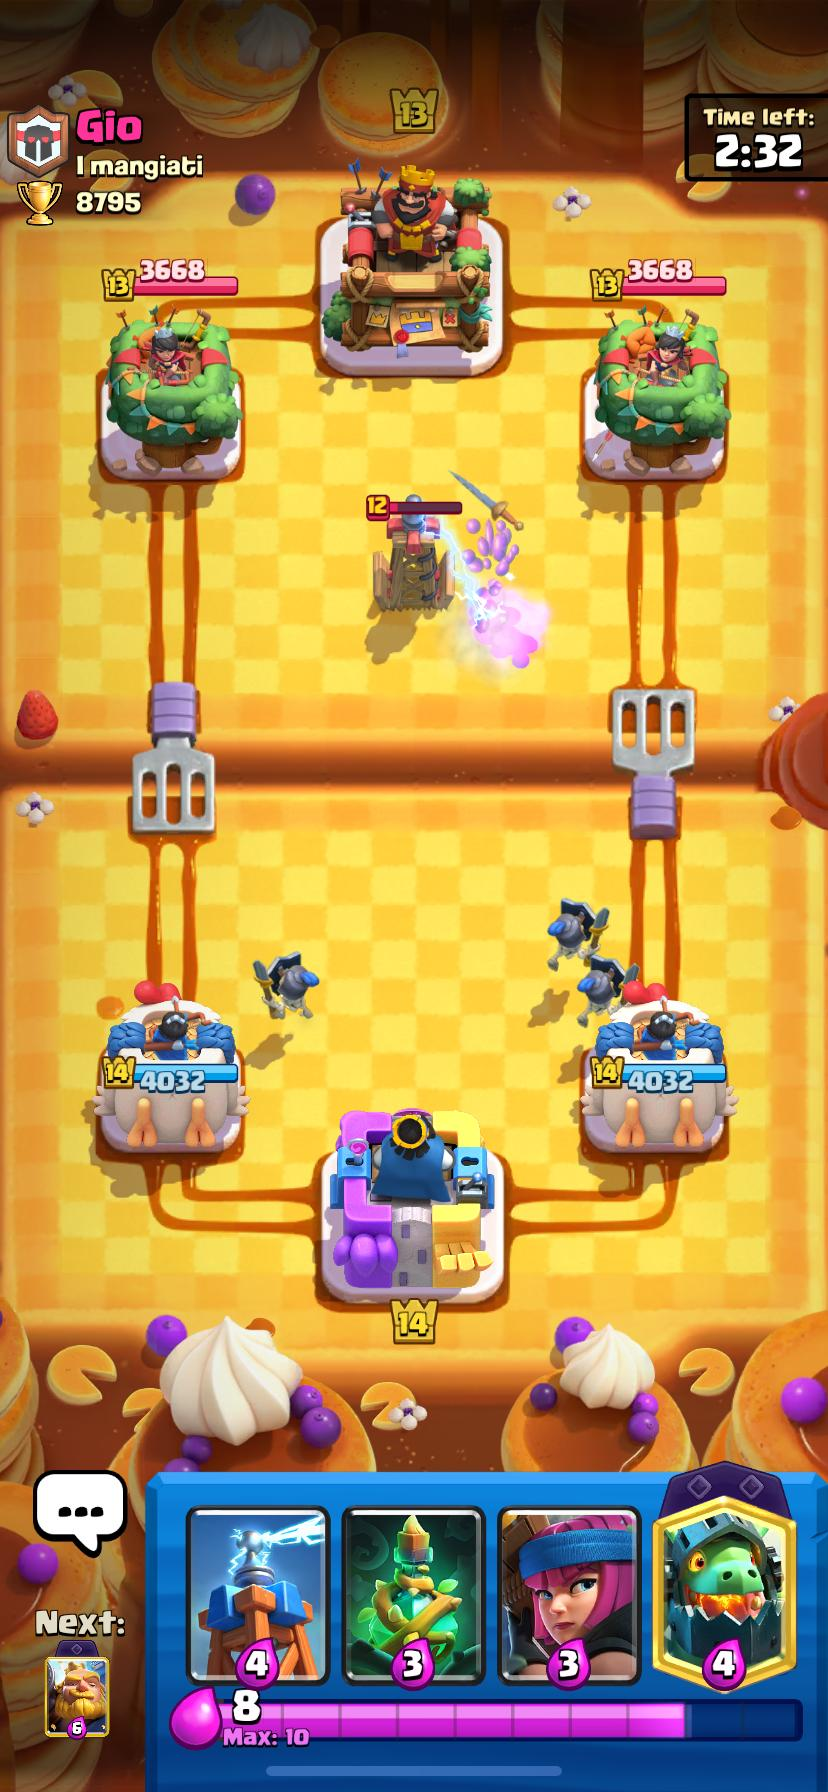EKingTower: (321, 167, 502, 376)
ETesla: (373, 494, 453, 613)
EnemyPrincessTower: (594, 309, 729, 475), (106, 310, 241, 453)
OGuard: (548, 899, 610, 970), (253, 952, 318, 1018), (578, 953, 624, 1025)
OwnKingTower: (321, 1109, 503, 1303)
OwnPrincessTower: (580, 981, 737, 1153), (93, 983, 248, 1153)
